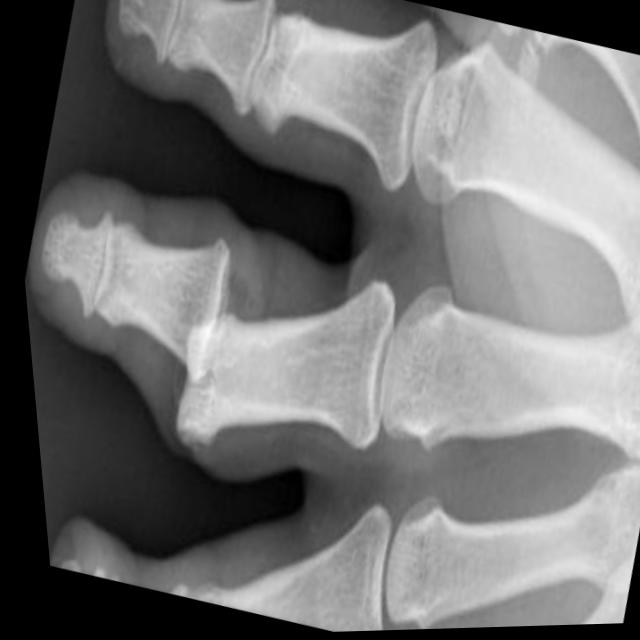fracture: (132, 217, 264, 464)
